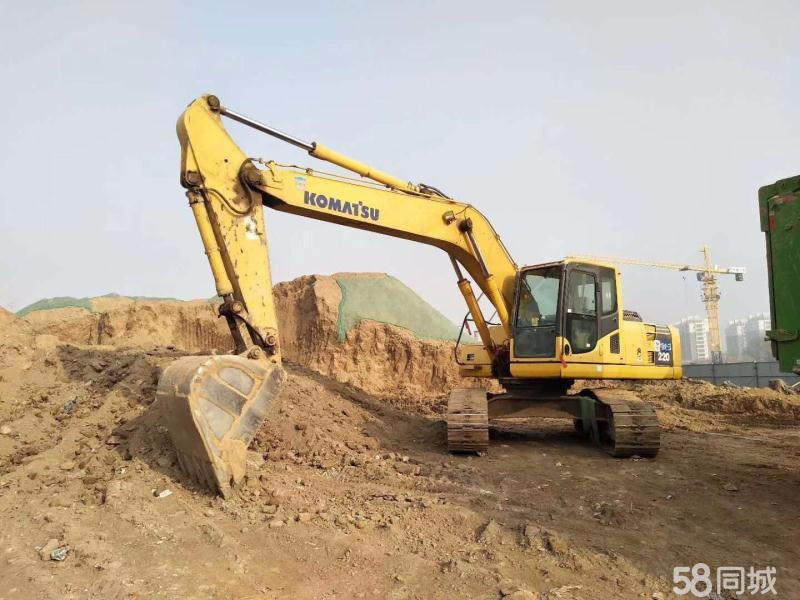excavator: (156, 87, 699, 514)
